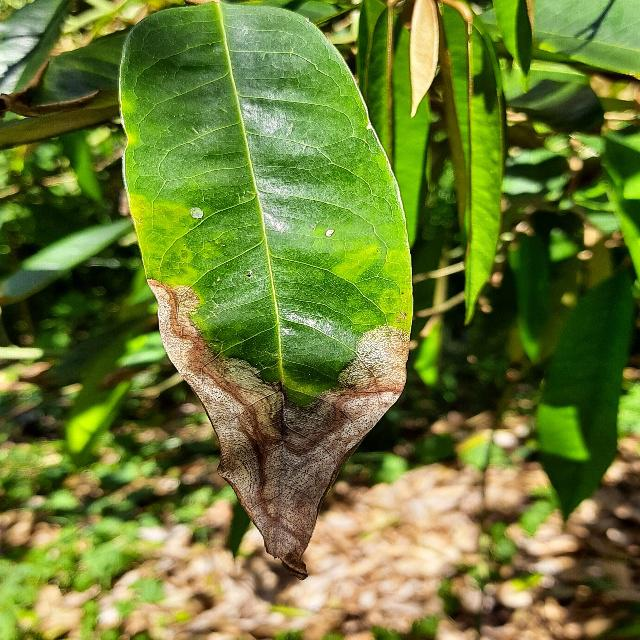Leaf Blight: (113, 0, 418, 584)
